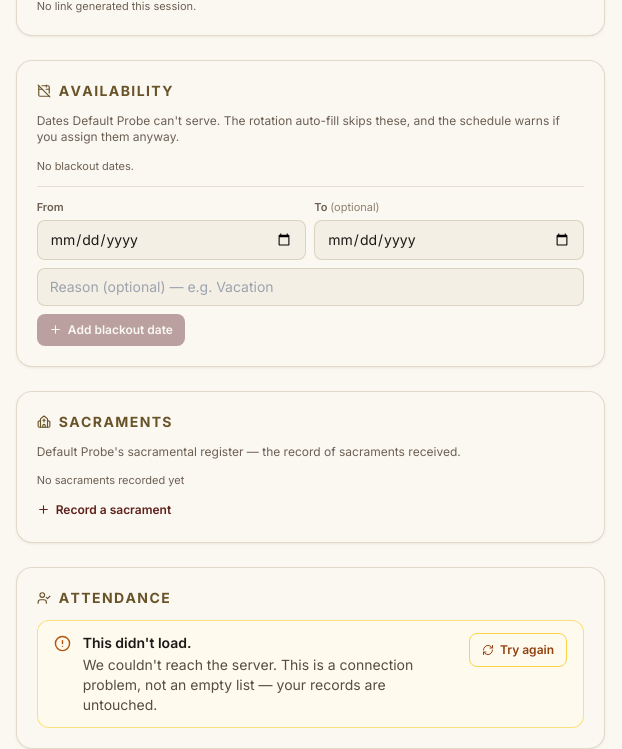
Test: attendance section when the read fails › retry shows the attendance that was there
(page scrolled)
Expected: the heading "Attendance" is shown, [59,588,171,608]
Click the button "Try again": (518, 650) [469,633,567,667]
(page scrolled)
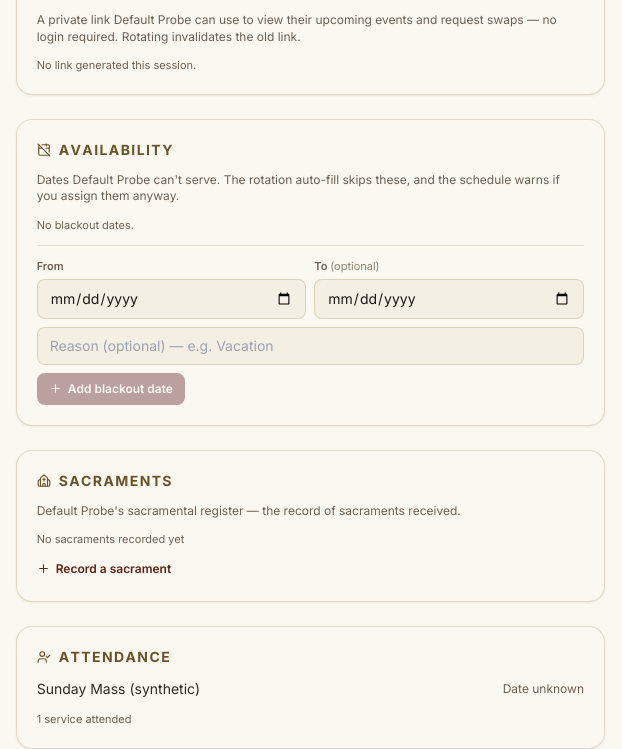
Result: the link "Sunday Mass (synthetic)" is shown at [37,679,200,699]
Result: the text "This didn't load." is gone
